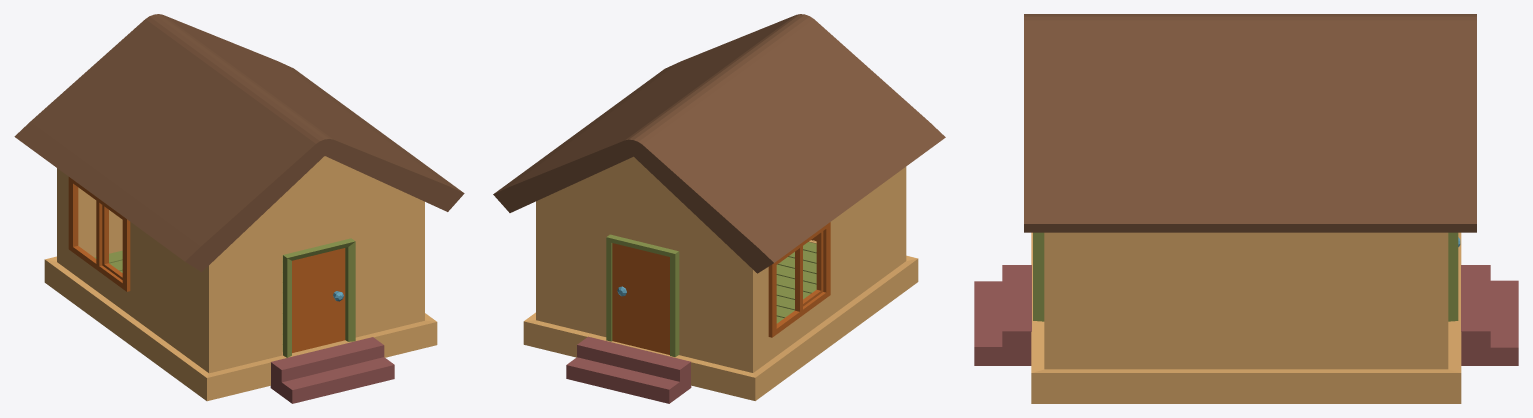
The model's file is Pos.fbx.
3 views of the same model, side by side, from view 1: azimuth 30°, elevation 25°; view 2: azimuth 150°, elevation 25°; view 3: azimuth 270°, elevation 25° (orthographic). The views are drawn at different scales.
Parts seen in each view (by area): view 1: Atap, TembokS, Bangunan, Tembok1, Tangga2, Roll1, Jendela, Pintu; view 2: Atap, TembokS1, Tembok1, Bangunan, Roll, Tangga, Jendela, Pintu2, Lantai; view 3: Atap, Tembok, Bangunan, Tangga, Tangga2, Pintu, Pintu2, TembokS1, TembokS.
Part boxes in pixels (box(x1,y1,x2,y2)): Atap: box(14, 14, 464, 271); TembokS: box(207, 156, 424, 373); Bangunan: box(44, 187, 437, 401); Tembok1: box(58, 169, 207, 371); Tangga2: box(270, 337, 394, 403); Roll1: box(292, 248, 345, 352); Jendela: box(68, 177, 130, 291); Pintu: box(283, 238, 355, 357); Atap: box(493, 14, 945, 273); TembokS1: box(536, 156, 754, 372); Tembok1: box(755, 168, 904, 371); Bangunan: box(523, 240, 918, 400); Roll: box(612, 243, 669, 354); Tangga: box(566, 336, 691, 403); Jendela: box(768, 222, 830, 337); Pintu2: box(606, 234, 679, 356); Lantai: box(776, 242, 816, 323); Atap: box(1024, 14, 1476, 232); Tembok: box(1048, 232, 1442, 369); Bangunan: box(1031, 232, 1461, 403); Tangga: box(1461, 265, 1518, 365); Tangga2: box(974, 265, 1031, 365); Pintu: box(1033, 232, 1044, 321); Pintu2: box(1448, 232, 1458, 321); TembokS1: box(1442, 232, 1448, 369); TembokS: box(1044, 232, 1048, 369).
Size of the model in its own units: 783 by 638 by 996.
